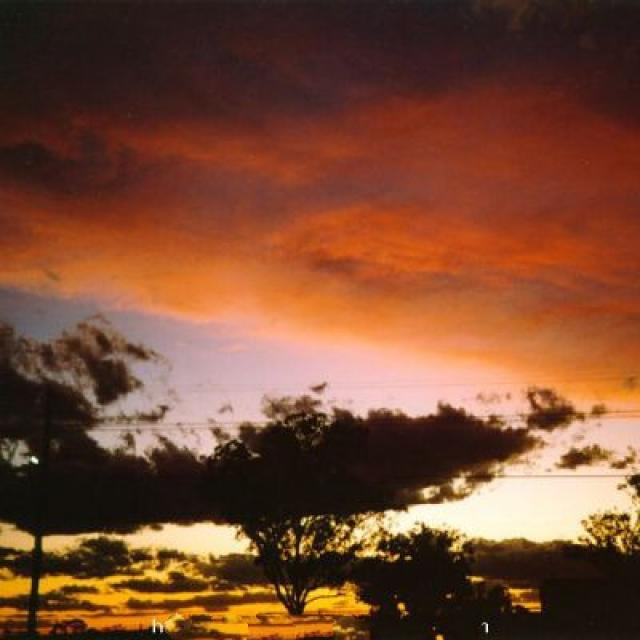Cs: (1, 1, 640, 419)
